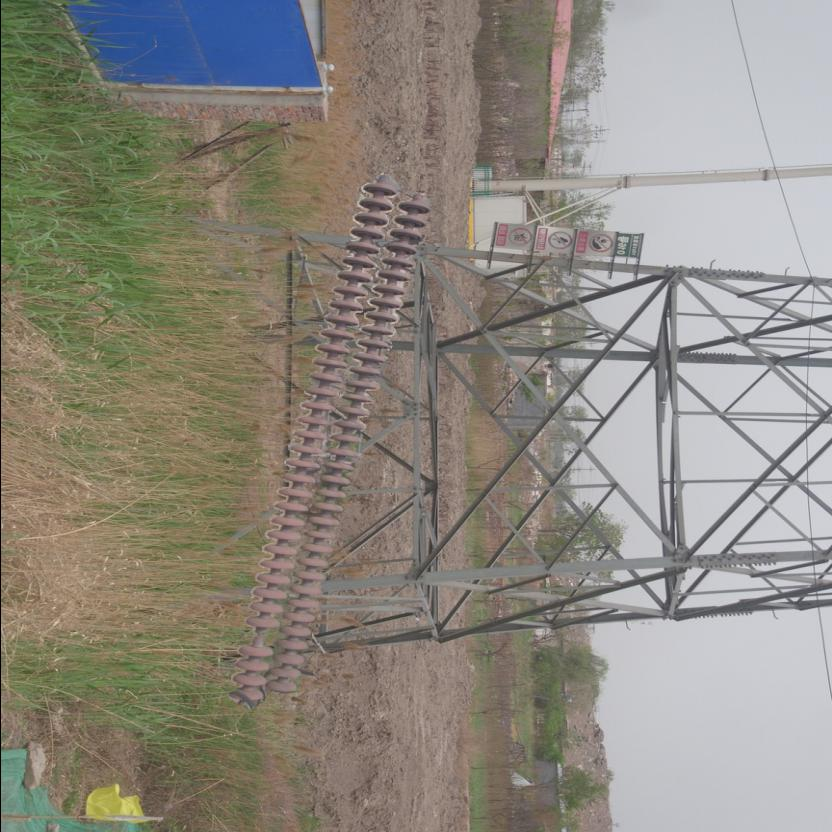defect: (236, 615, 282, 661)
